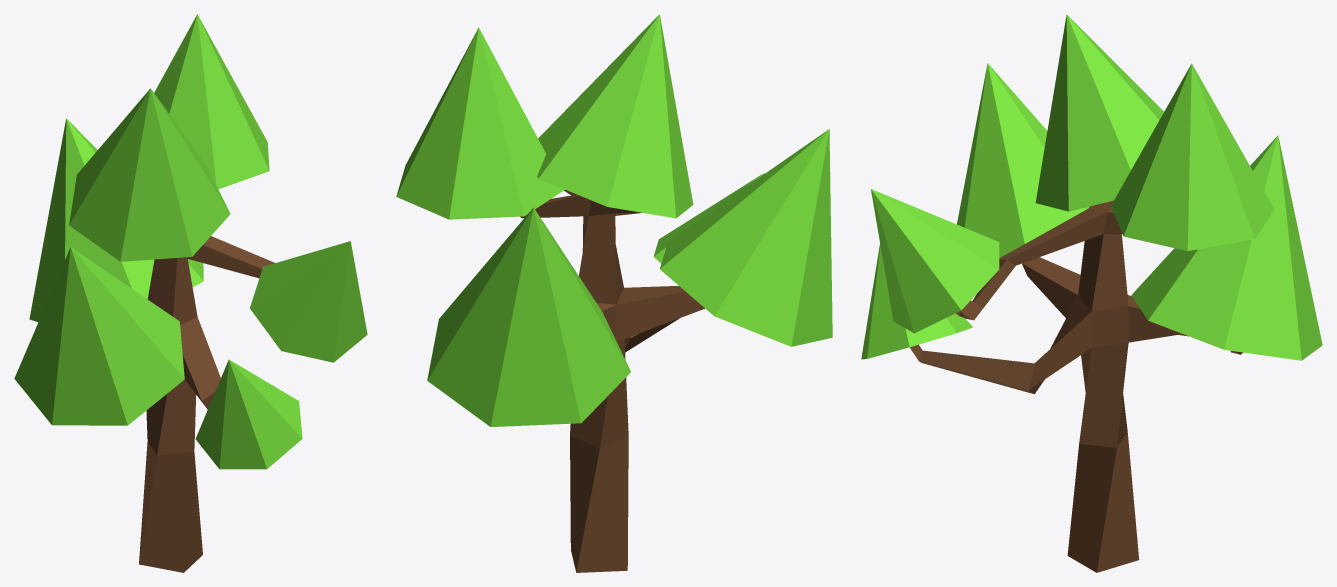
File: arvare 2.fbx
3 renders of one model, left to right at view 1: azimuth 30°, elevation 25°; view 2: azimuth 150°, elevation 25°; view 3: azimuth 270°, elevation 25°, orthographic. The views are drawn at different scales.
Visible parts, largest first — view 1: Cube.001; view 2: Cube.001; view 3: Cube.001.
Boxes of the visible parts, bbox=[...] form: Cube.001: bbox=[14, 14, 367, 572]; Cube.001: bbox=[396, 14, 832, 572]; Cube.001: bbox=[861, 14, 1322, 572].
Size of the model in its own units: 513 by 810 by 639.
